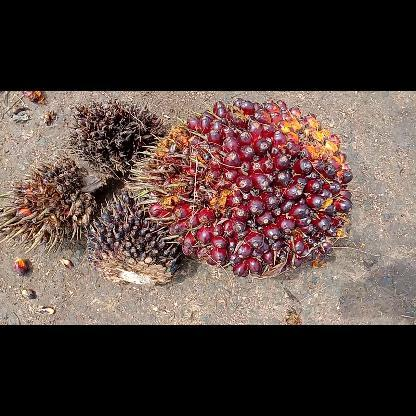TBS abnormal: (85, 188, 185, 286), (0, 158, 98, 252), (65, 97, 167, 175)
TBS masak: (125, 96, 355, 282)
